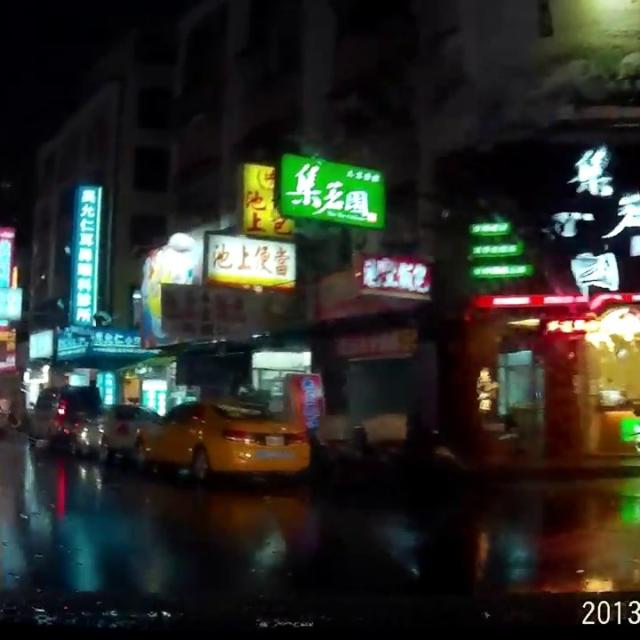Car: (142, 402, 312, 475), (32, 385, 99, 448), (81, 409, 159, 458)
